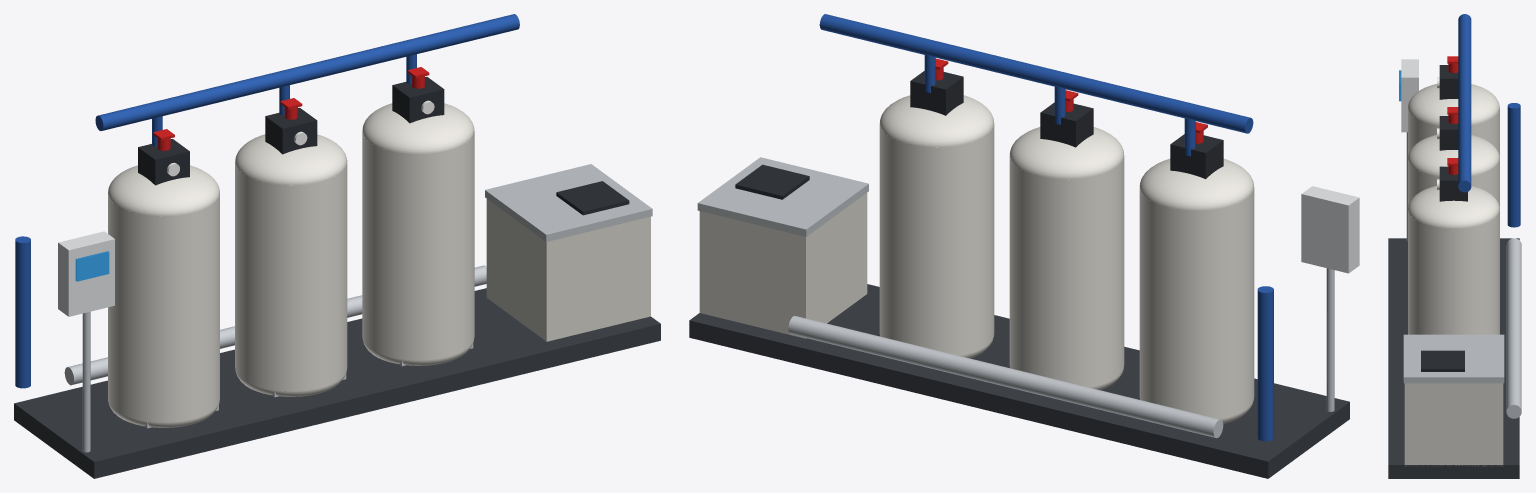
The model's file is su-aritma.glb.
3 renders of one model, left to right at view 1: azimuth 30°, elevation 25°; view 2: azimuth 150°, elevation 25°; view 3: azimuth 270°, elevation 25°, orthographic. The views are drawn at different scales.
Visible parts, largest first — view 1: Asset; view 2: Asset; view 3: Asset.
Boxes of the visible parts, left/top/right/bottom form: Asset: left=14, top=14, right=660, bottom=478; Asset: left=689, top=14, right=1359, bottom=478; Asset: left=1388, top=14, right=1521, bottom=478.
Size of the model in its own units: 5.06 by 2.61 by 1.22.
